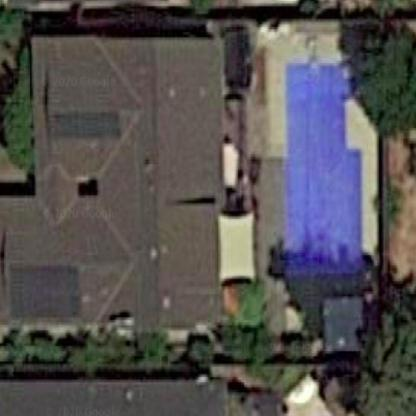solar_panel: (5, 259, 93, 321), (45, 106, 130, 148)
swimming_pool: (273, 44, 383, 301)
